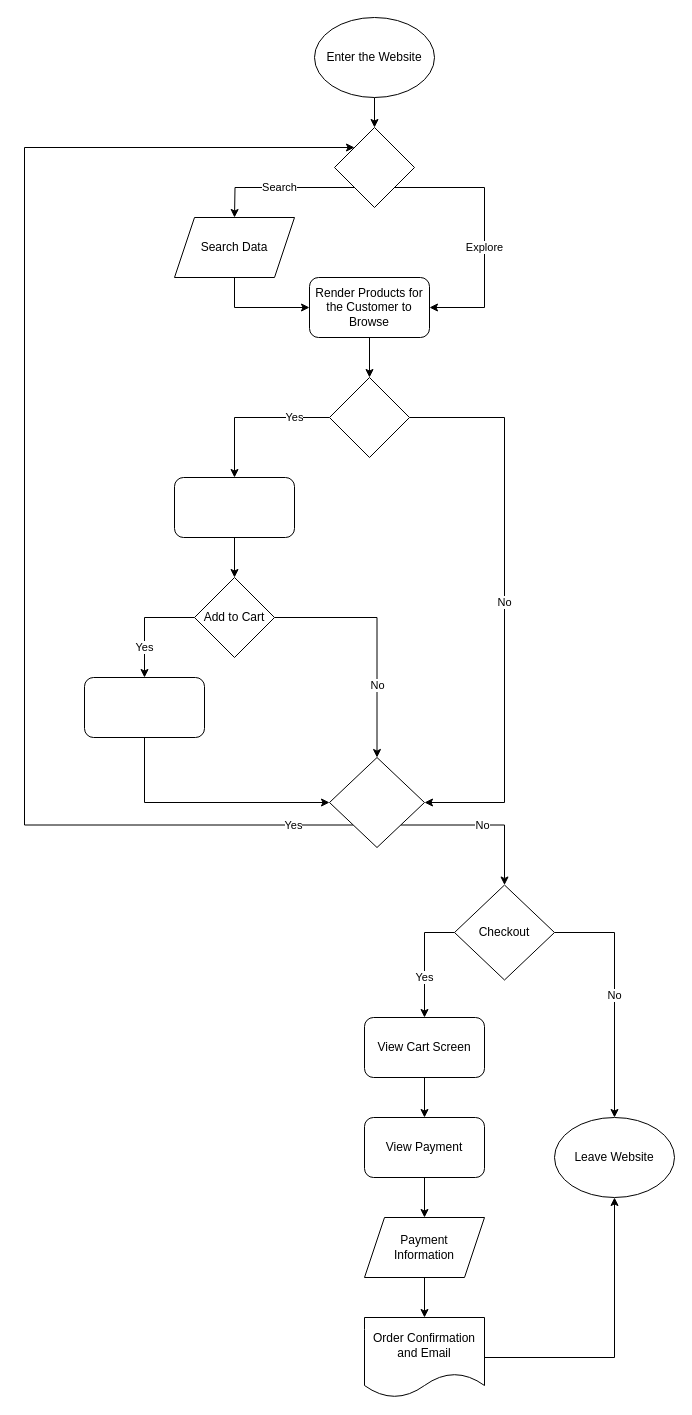
Some shapes in this 692 by 1415 pixel diagram are drawn without their labels. Here are the shapes that lost their labels. From the top down, the box of each, then its label:
(334, 126, 414, 208): Search or Explore
(328, 376, 410, 458): View a Product
(174, 476, 294, 538): Open Product Webpage
(84, 676, 204, 738): Add to Cart Confirmation
(328, 756, 424, 848): Continue Shopping
